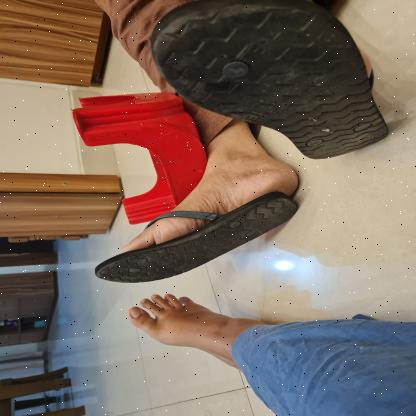leg: (86, 127, 310, 285), (123, 286, 277, 374)
